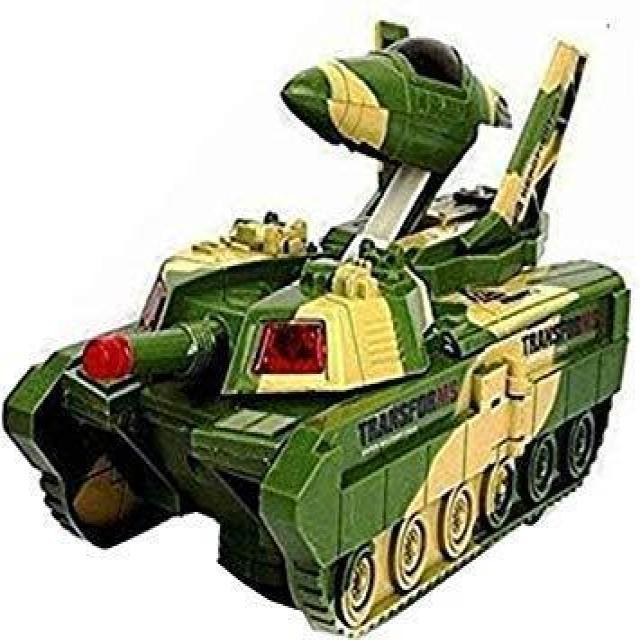MIL_MBT: (27, 51, 570, 607)
